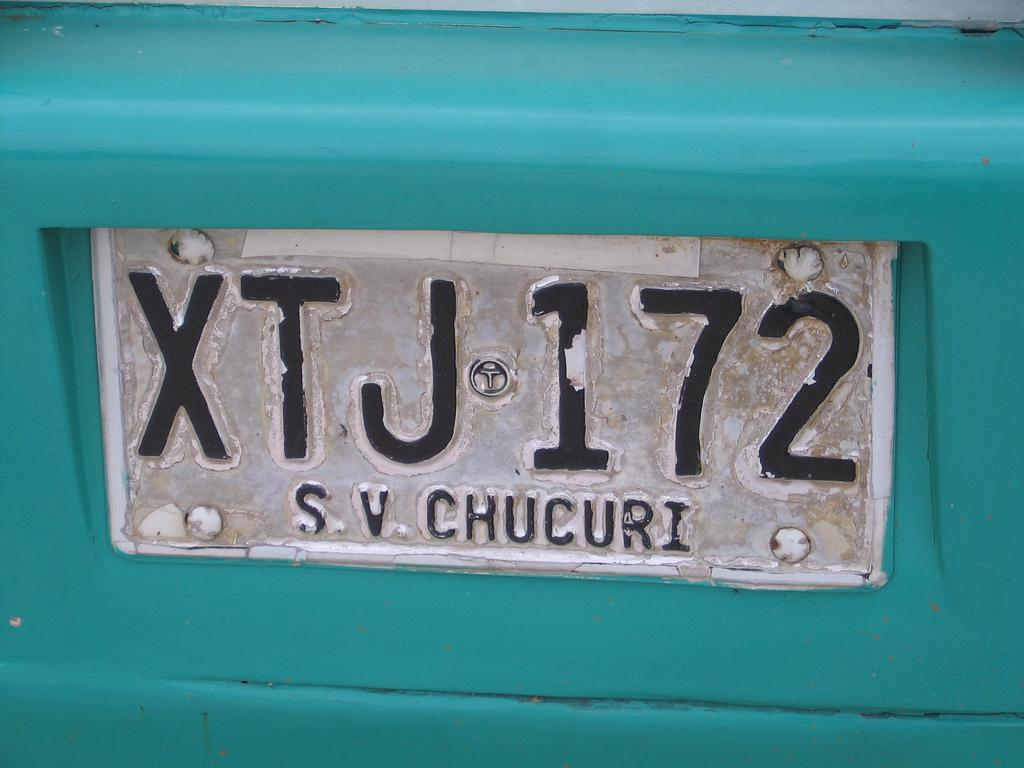placas: (84, 214, 904, 592)
